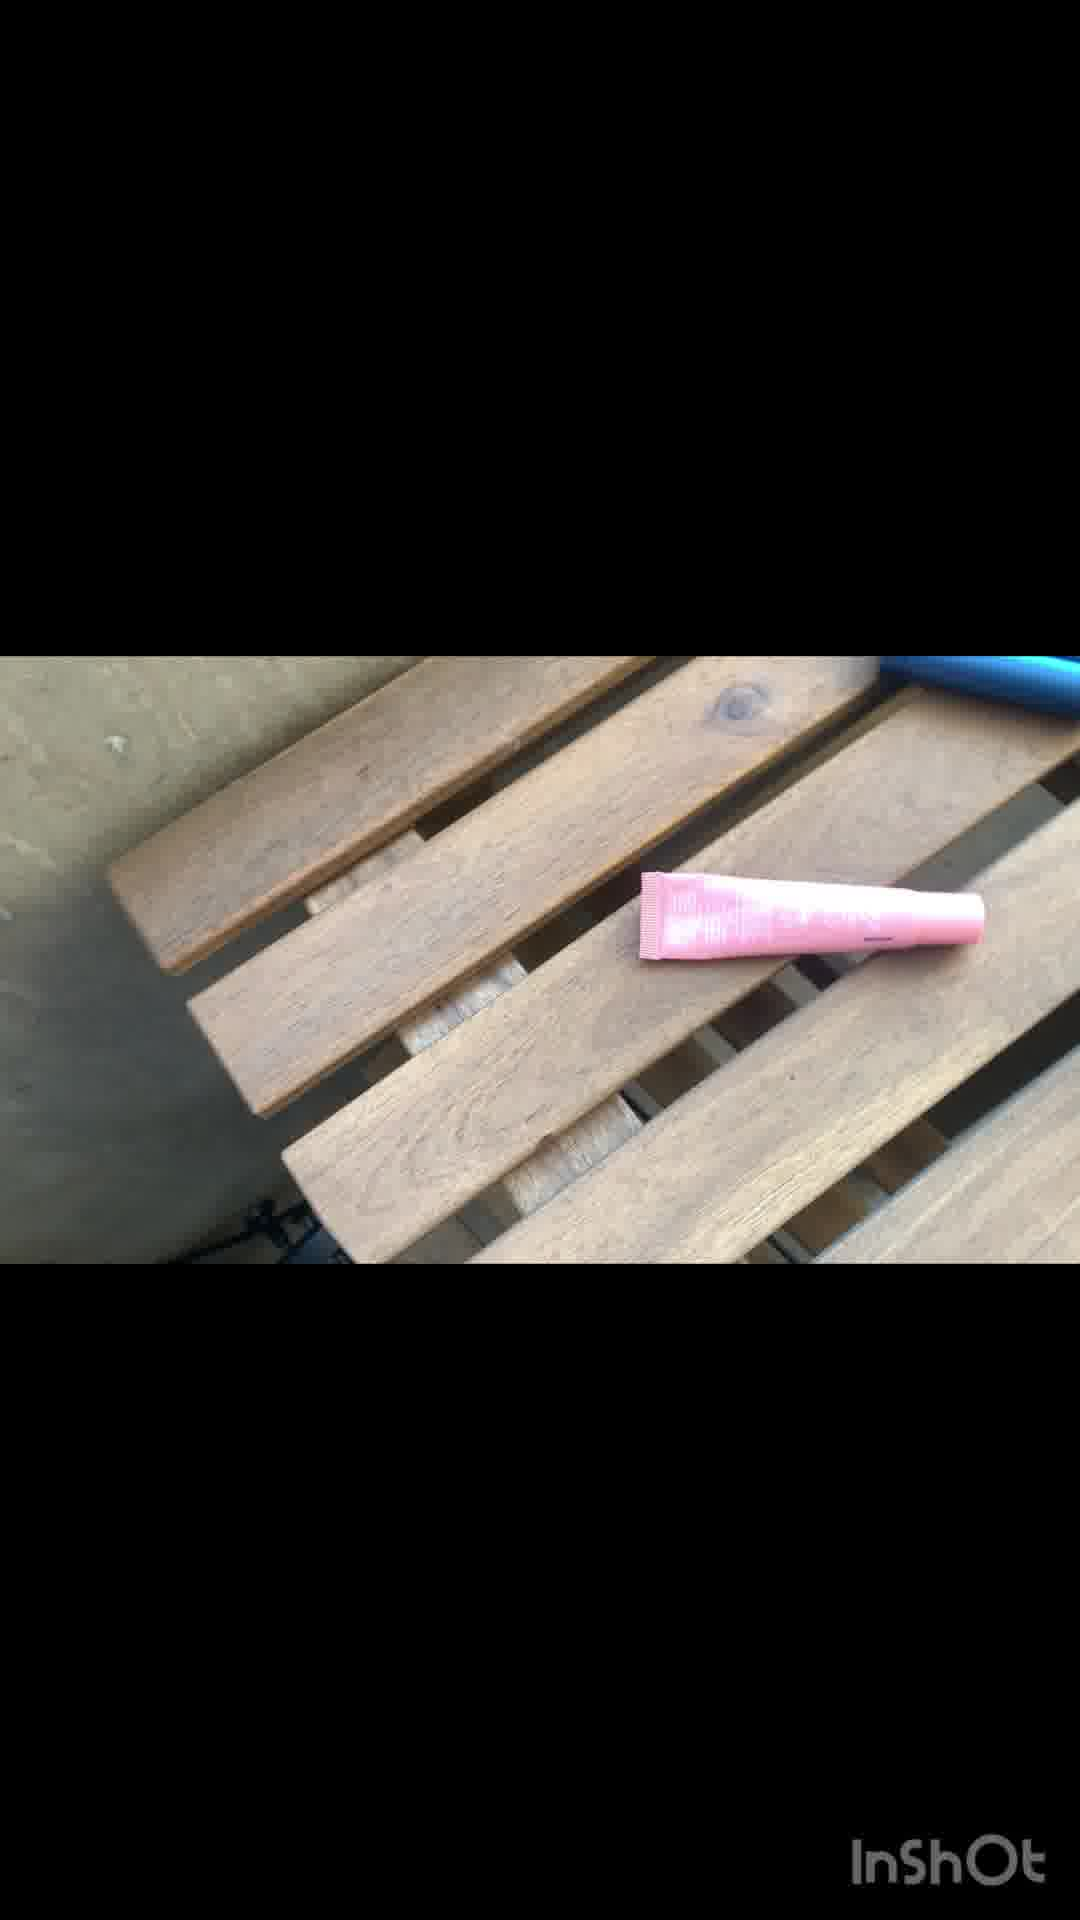lip balm: (618, 857, 990, 972)
